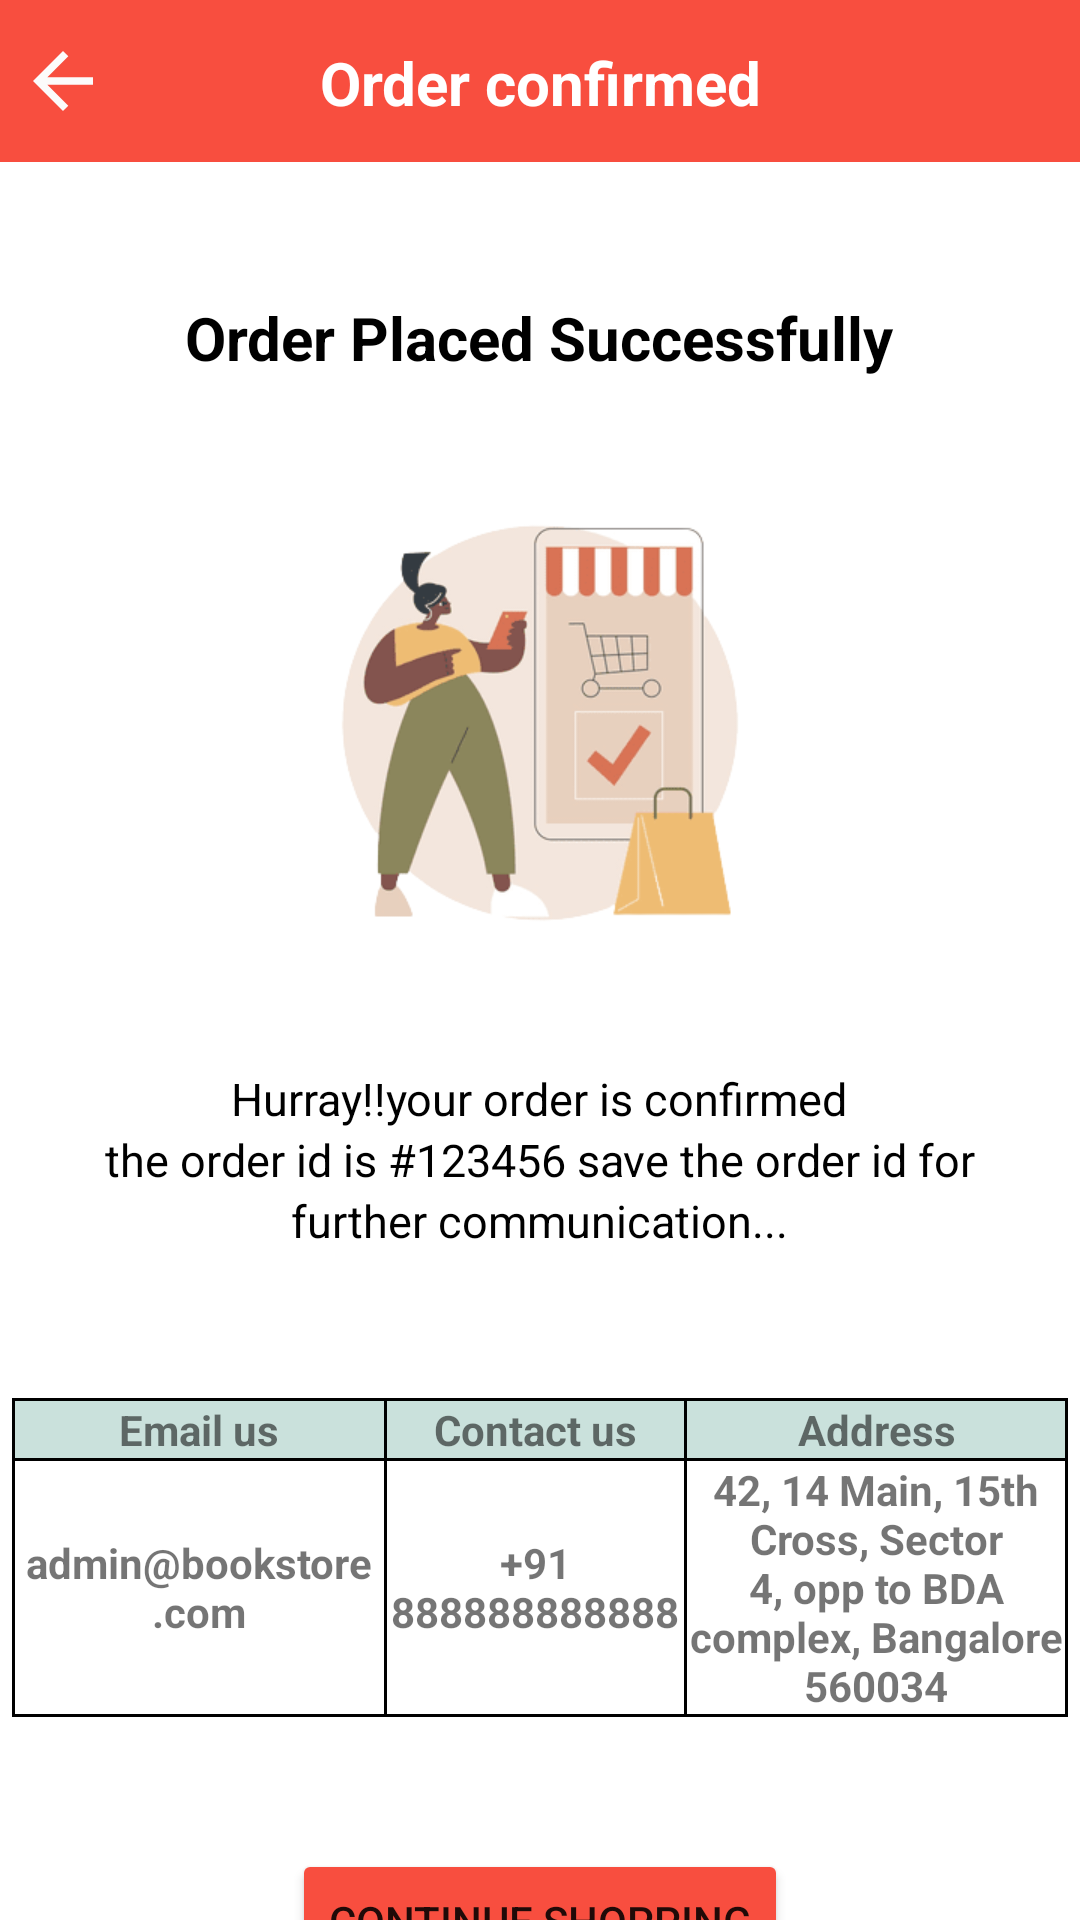

Icons on this 1080 × 1920 Android screen, each with the point to tap as (x,y):
arrow back: (63,81)
